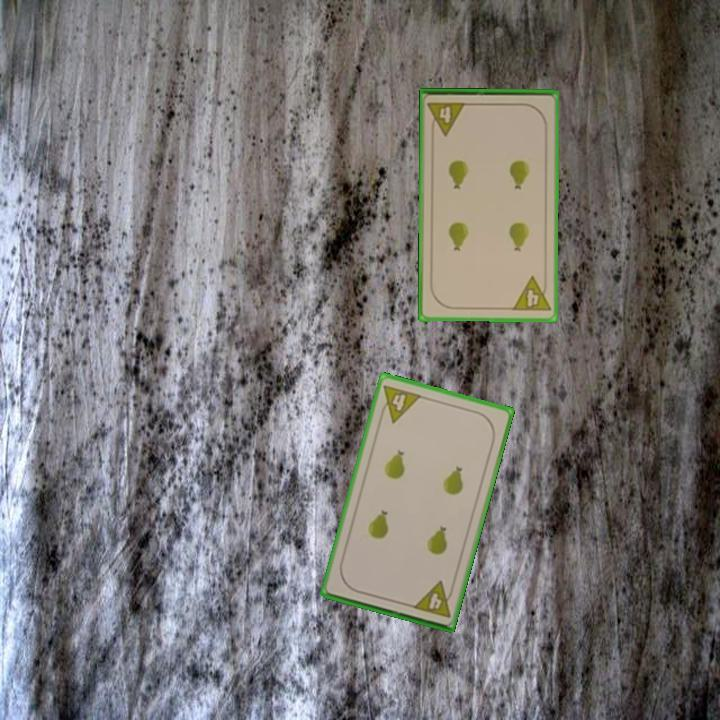4p: (375, 381, 424, 426), (409, 578, 457, 621), (509, 273, 553, 315), (424, 99, 469, 138)
